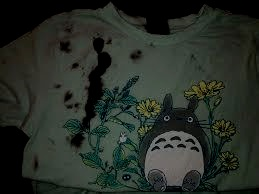ink: (87, 76, 101, 117), (94, 53, 112, 75), (92, 37, 105, 52), (63, 92, 74, 109), (69, 135, 83, 148), (59, 41, 73, 52), (130, 51, 143, 61), (71, 61, 81, 70)
